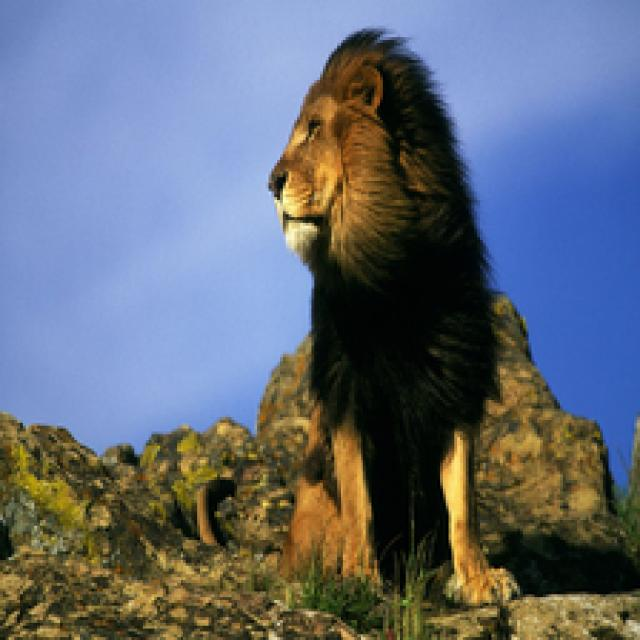lion: (250, 18, 537, 562)
